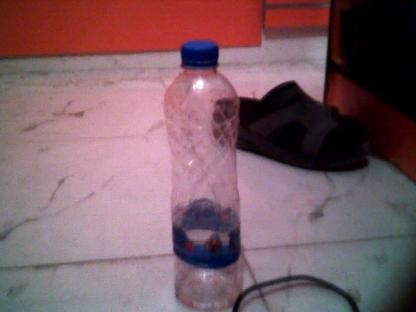Plastic Bottle: (150, 33, 266, 312)
